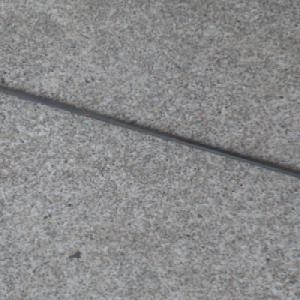LuggagePart: (0, 85, 300, 179)
